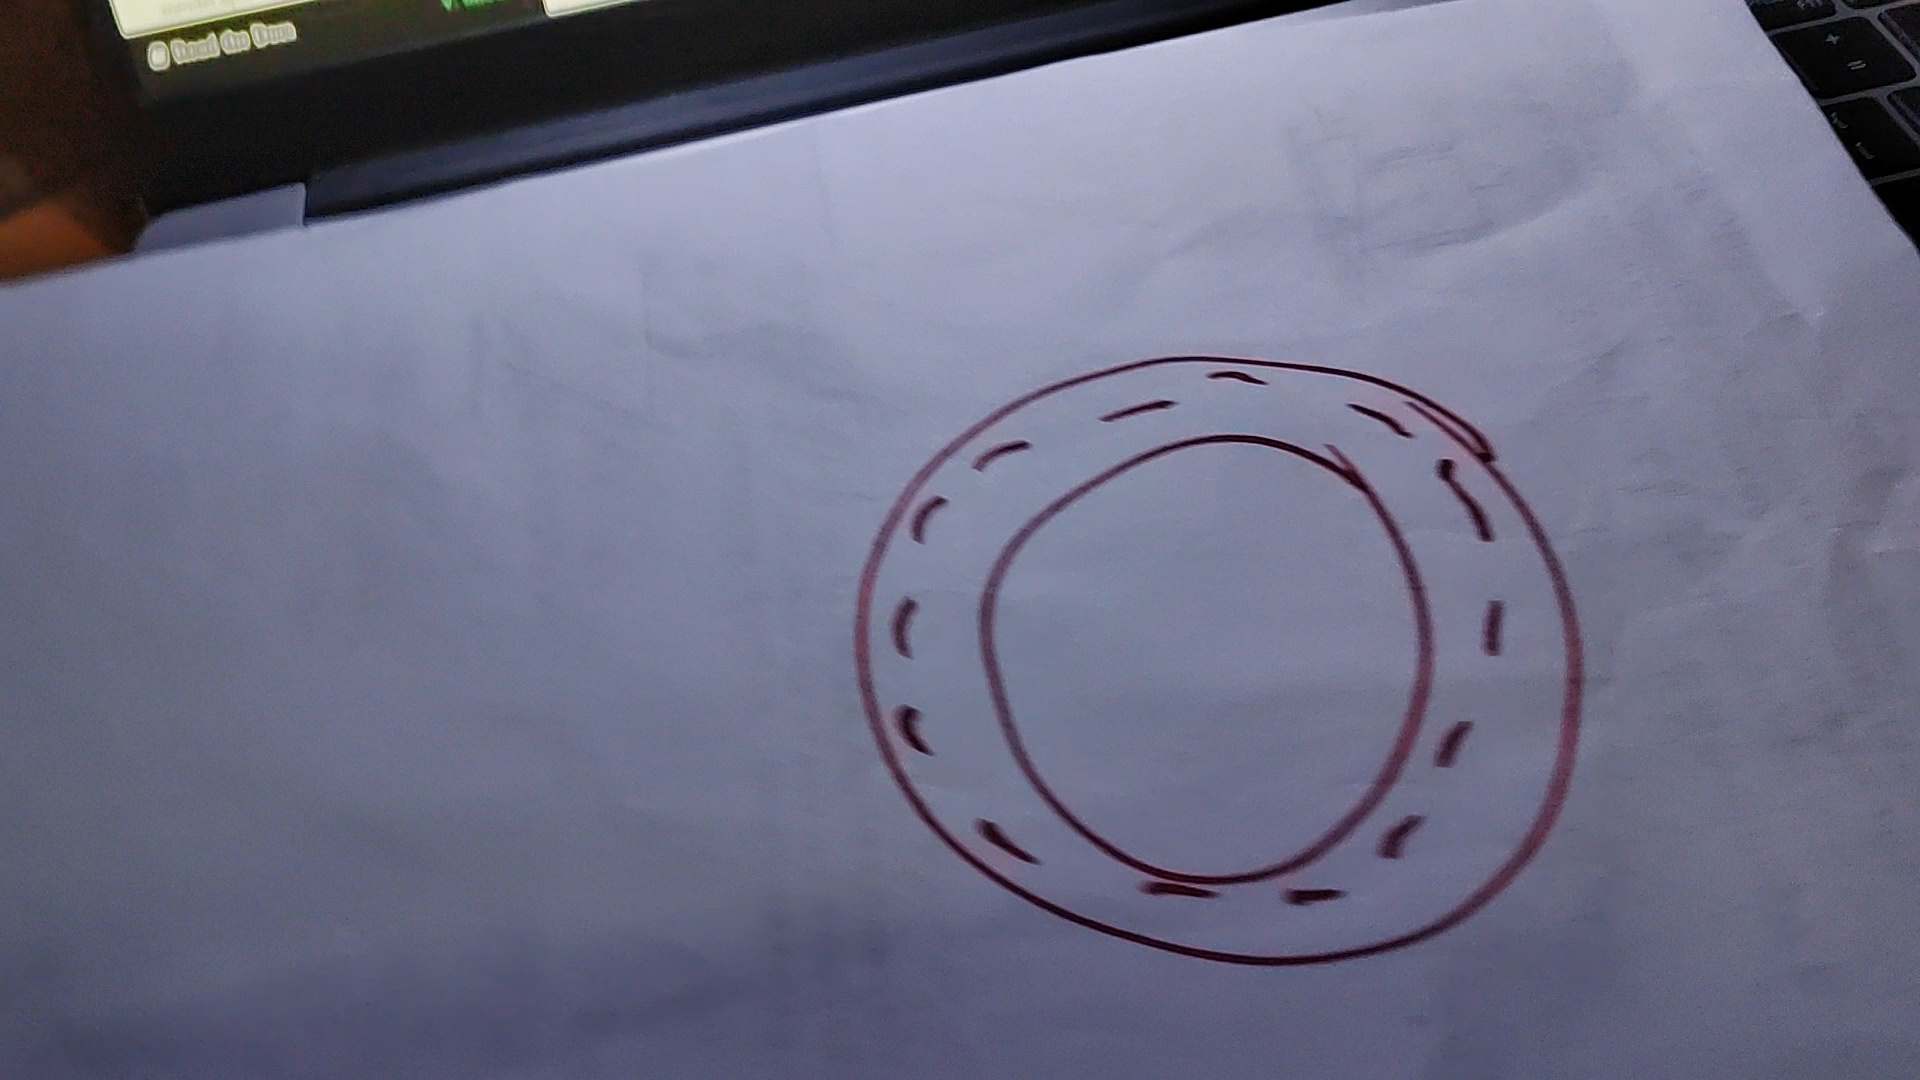circle: (857, 349, 1590, 968)
